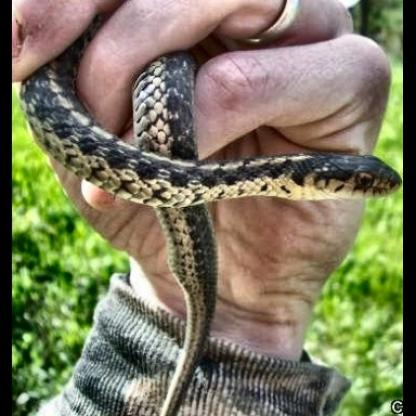Snake: (18, 44, 230, 416), (170, 143, 400, 202)
